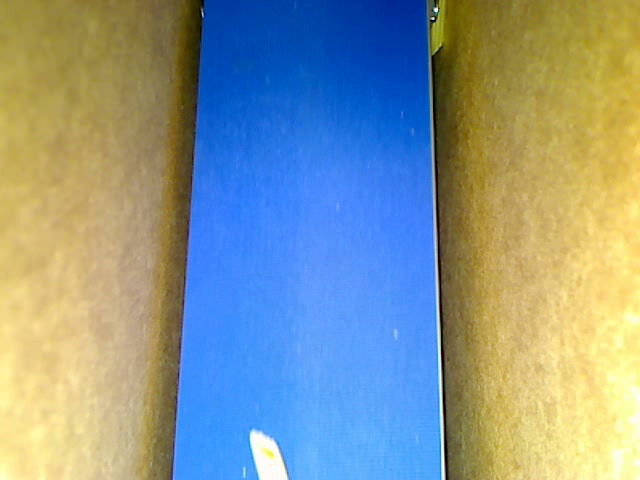penne: (249, 427, 285, 479), (429, 1, 450, 59)
